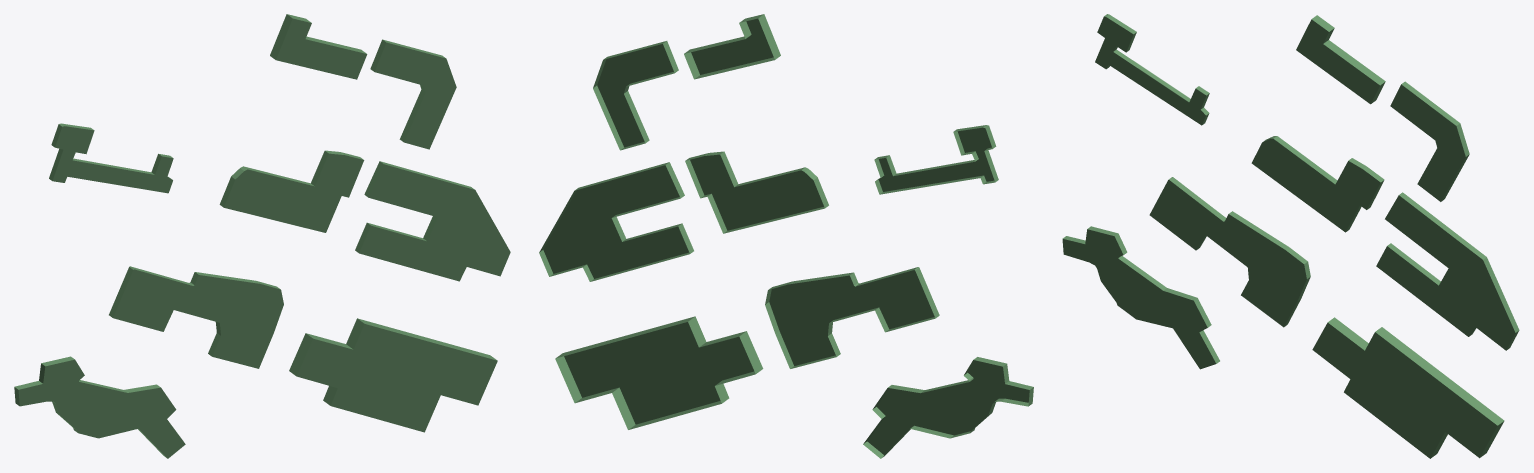
Rendered from buildings_k10.obj.
The picture shows the model from 3 angles, left to right: view 1: azimuth 30°, elevation 25°; view 2: azimuth 150°, elevation 25°; view 3: azimuth 330°, elevation 25°; orthographic projection. The views are drawn at different scales.
Parts seen in each view (by area): view 1: roof3, zone3; view 2: roof3, zone3; view 3: roof3, zone3.
Boxes of the visible parts, x1,y1,x2,y2 form: roof3: [18, 18, 510, 458]; zone3: [14, 14, 496, 457]; roof3: [543, 18, 1029, 454]; zone3: [539, 14, 1033, 458]; roof3: [1062, 16, 1515, 458]; zone3: [1063, 14, 1519, 458].
Bounding box in the file's own units: 289 × 250 × 7.7.
